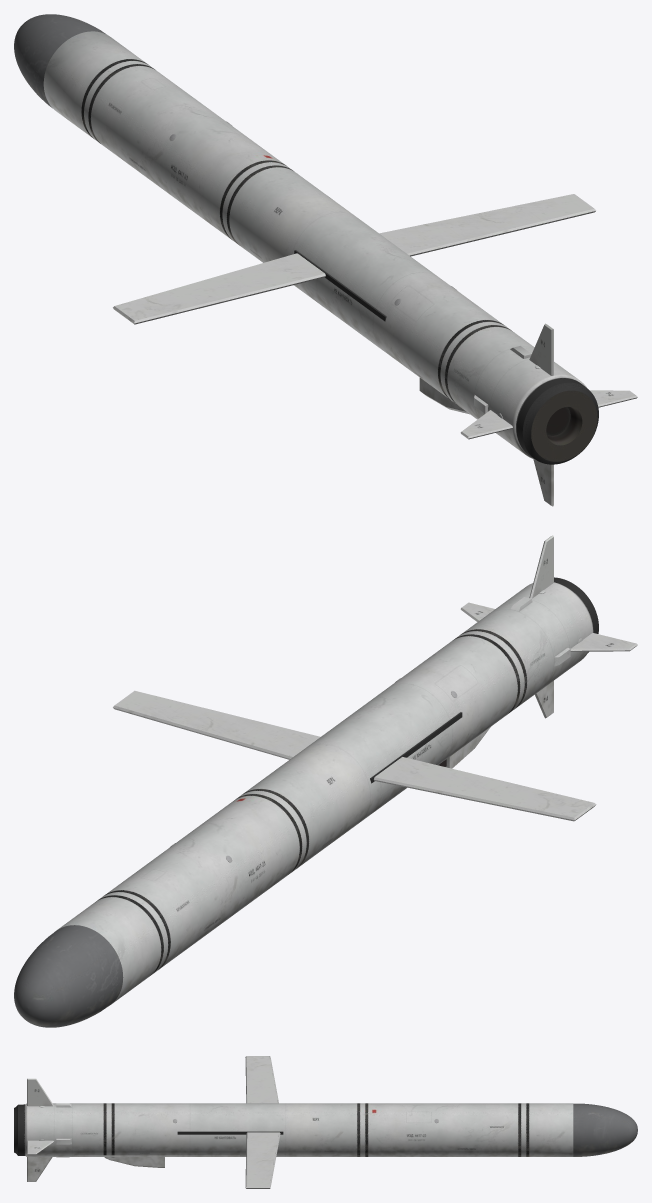
Rendered from w_kalibr.glb.
3 views of the same model, one above another, from view 1: azimuth 30°, elevation 25°; view 2: azimuth 150°, elevation 25°; view 3: azimuth 270°, elevation 25° (orthographic). The views are drawn at different scales.
Visible parts, largest first — view 1: body, wing_l, wing_r, radome, fin_1, fin_4; view 2: body, radome, wing_l, wing_r, fin_1, fin_4; view 3: body, radome, wing_r, wing_l, fin_1, intake, fin_3, fin_2.
Boxes of the visible parts, box(x1,y1,x2,y2) form: body: box(43, 31, 598, 464); wing_l: box(113, 253, 325, 324); wing_r: box(379, 194, 596, 256); radome: box(14, 14, 106, 108); fin_1: box(529, 323, 553, 375); fin_4: box(460, 410, 512, 439); body: box(55, 577, 598, 1005); radome: box(14, 925, 123, 1027); wing_l: box(374, 757, 596, 821); wing_r: box(113, 690, 320, 759); fin_1: box(529, 535, 553, 598); fin_4: box(570, 633, 637, 651); body: box(14, 1103, 573, 1157); radome: box(573, 1103, 637, 1156); wing_r: box(245, 1132, 280, 1188); wing_l: box(245, 1056, 278, 1103); fin_1: box(27, 1078, 53, 1106); intake: box(104, 1157, 164, 1167); fin_3: box(27, 1157, 52, 1181); fin_2: box(27, 1140, 53, 1154).
Bounding box in the file's own units: 3.09 × 1.13 × 6.2.
Materials: 2 (2 with a texture image).
